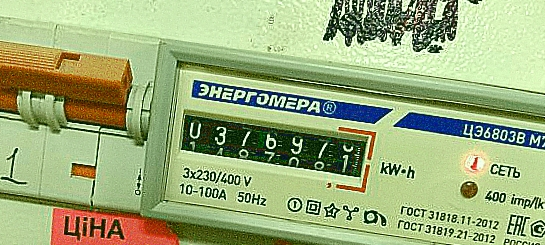0: (185, 117, 204, 140)
1: (337, 152, 351, 174)
3: (211, 123, 228, 147)
6: (263, 128, 279, 150)
7: (237, 123, 253, 149), (313, 136, 329, 160)
9: (288, 132, 304, 156)
screen: (168, 101, 379, 196)
